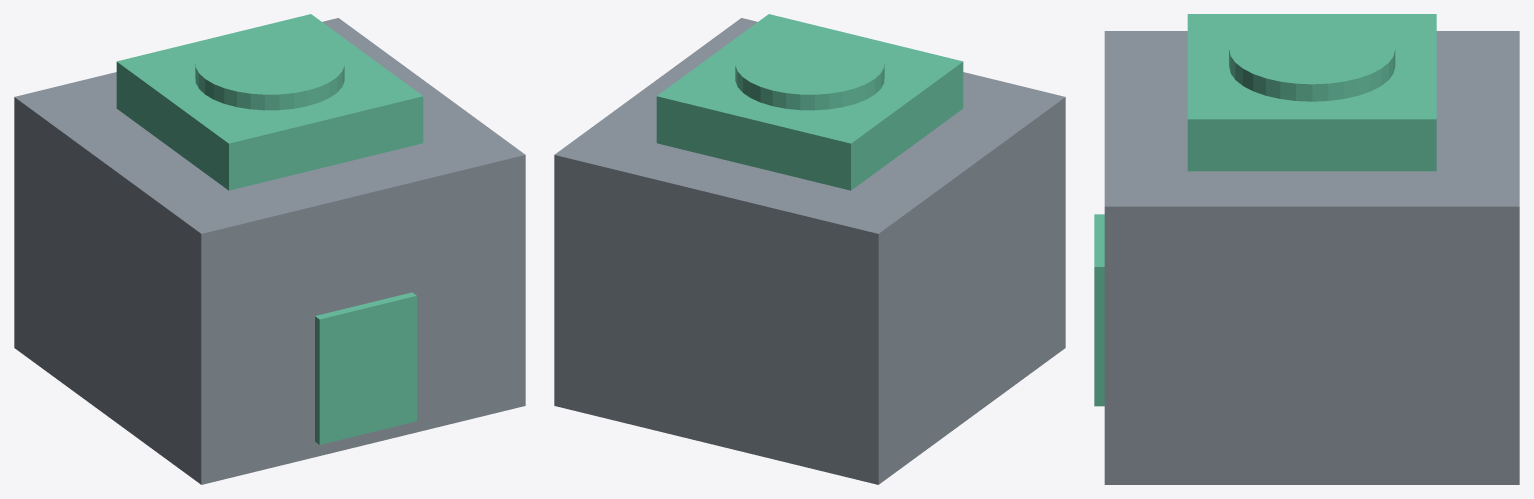
File: SM_Coalition_CO_AATurret_Blockout.fbx
3 views of the same model, side by side, from view 1: azimuth 30°, elevation 25°; view 2: azimuth 150°, elevation 25°; view 3: azimuth 270°, elevation 25° (orthographic). The views are drawn at different scales.
Visible parts, largest first — view 1: MainBuilding, RoofStructure, EntranceGate, Spire; view 2: MainBuilding, RoofStructure, Spire; view 3: MainBuilding, RoofStructure, Spire, EntranceGate.
Part boxes in pixels (left/top/right/bottom): MainBuilding: left=14, top=18, right=525, bottom=484; RoofStructure: left=116, top=14, right=423, bottom=190; EntranceGate: left=315, top=292, right=416, bottom=444; Spire: left=195, top=31, right=344, bottom=110; MainBuilding: left=554, top=18, right=1065, bottom=484; RoofStructure: left=656, top=14, right=963, bottom=190; Spire: left=735, top=31, right=884, bottom=110; MainBuilding: left=1104, top=31, right=1519, bottom=484; RoofStructure: left=1187, top=14, right=1436, bottom=171; Spire: left=1229, top=14, right=1395, bottom=101; EntranceGate: left=1094, top=214, right=1104, bottom=406.
Bounding box in the file's own units: 400 × 370 × 410.
